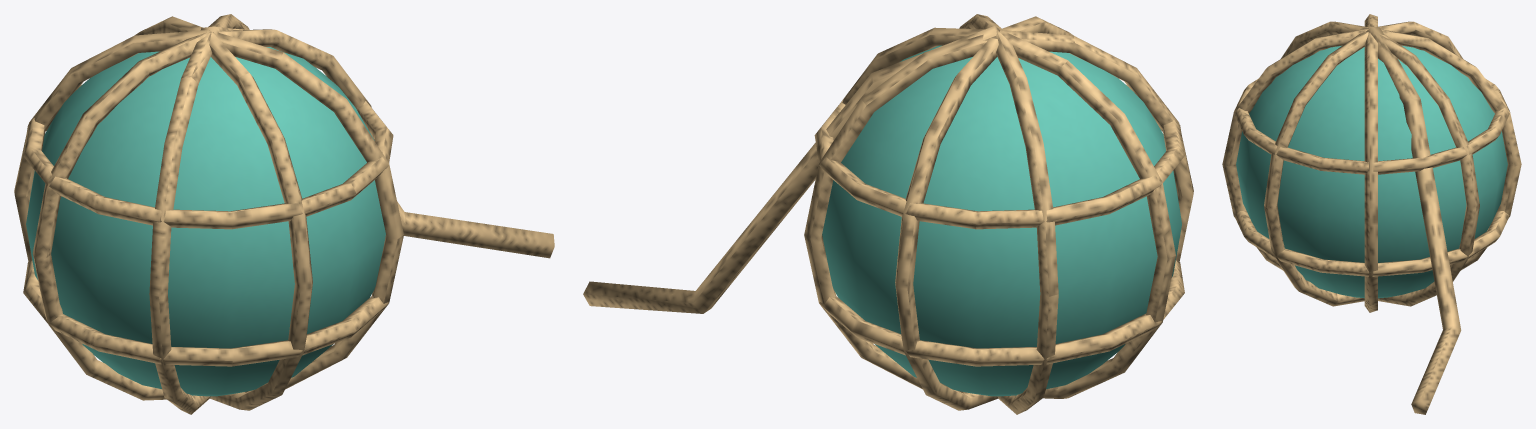
Rendered from drift_float.glb.
The picture shows the model from 3 angles, left to right: view 1: azimuth 30°, elevation 25°; view 2: azimuth 150°, elevation 25°; view 3: azimuth 270°, elevation 25°; orthographic projection. The views are drawn at different scales.
Parts seen in each view (by area): view 1: DriftFloat; view 2: DriftFloat; view 3: DriftFloat.
Boxes of the visible parts, <box> form: DriftFloat: <box>14,14,554,414</box>; DriftFloat: <box>583,14,1193,414</box>; DriftFloat: <box>1222,14,1521,414</box>.
Size of the model in its own units: 0.5905 by 0.377 by 0.3731.
Materials: 1 (1 with a texture image).
